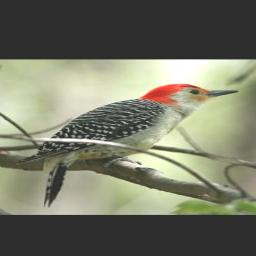Woodpecker: (20, 83, 239, 207)
